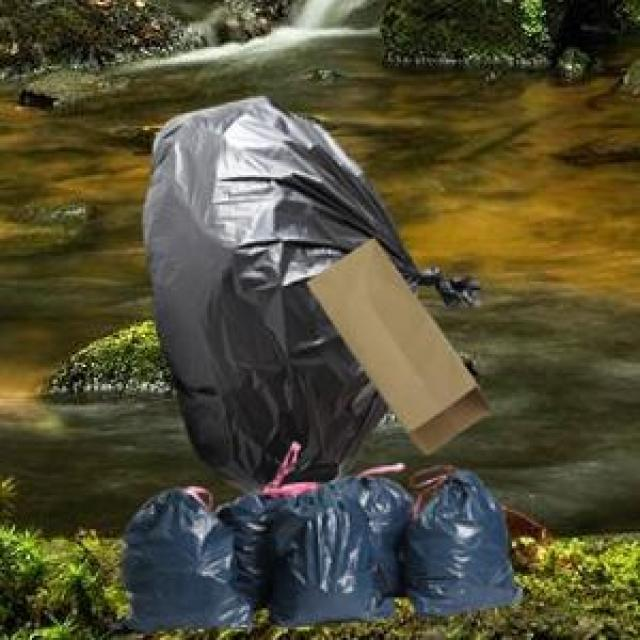miscellaneous trash: (139, 92, 480, 491), (107, 467, 518, 627)
paper: (303, 235, 486, 450)
